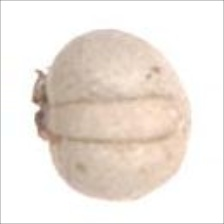L5: (47, 92, 186, 145), (28, 66, 69, 146), (172, 88, 200, 145)
L6: (28, 28, 196, 204)
